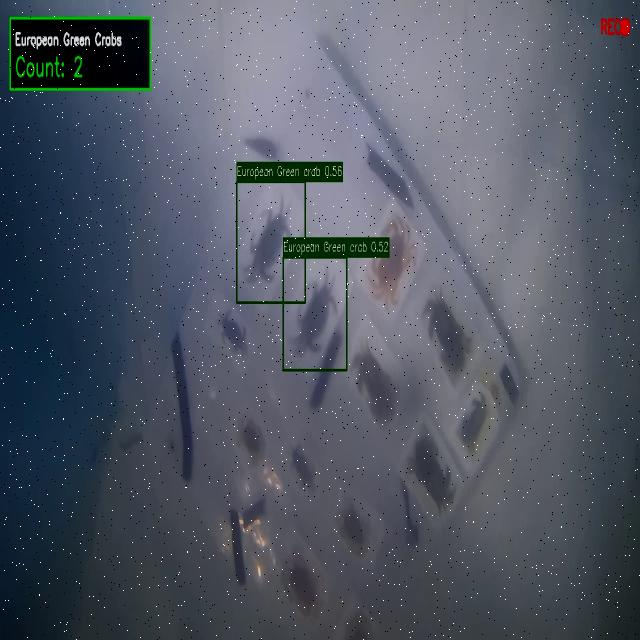European_Green_Crab: (233, 180, 307, 305), (285, 259, 346, 371), (210, 298, 252, 365), (285, 440, 320, 499)
